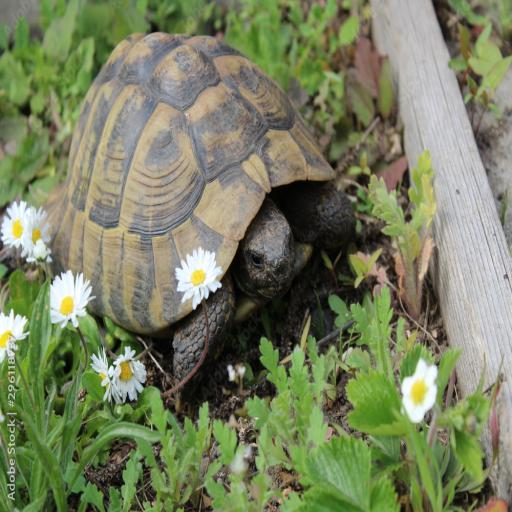turtle: (26, 20, 370, 401)
